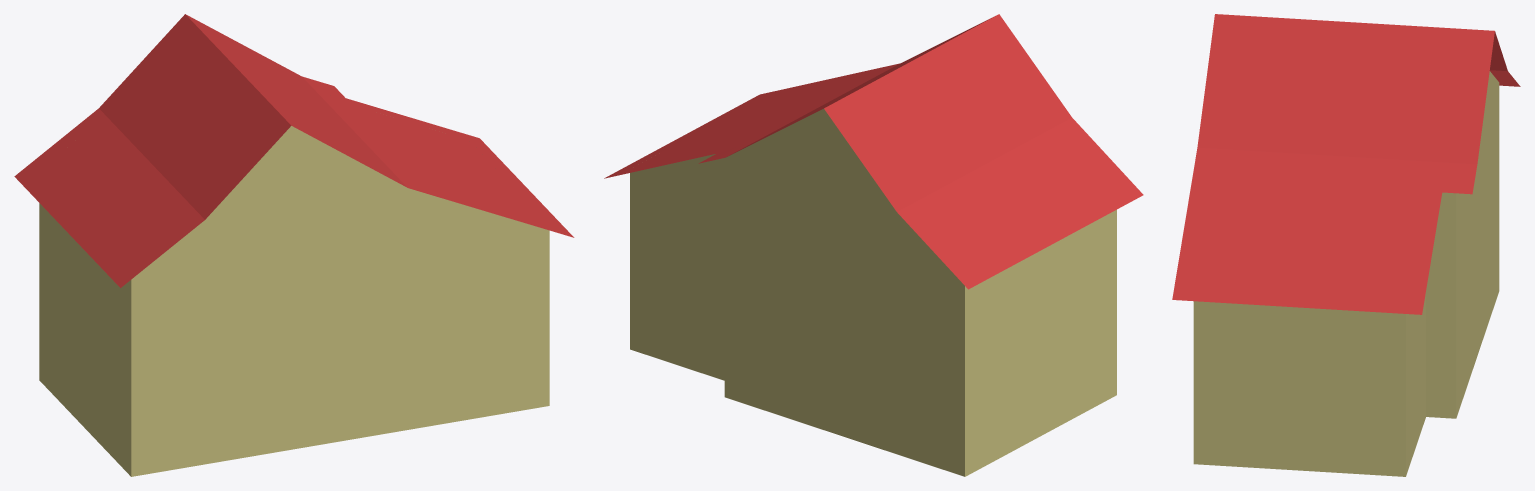
The picture shows the model from 3 angles, left to right: view 1: azimuth 30°, elevation 25°; view 2: azimuth 150°, elevation 25°; view 3: azimuth 270°, elevation 25°; orthographic projection.
Bounding box in the file's own units: 20.32 × 13.71 × 14.34.
